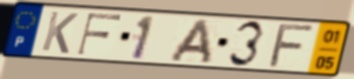1: (131, 14, 157, 61)
3: (226, 19, 271, 69)
A: (166, 17, 214, 65)
F: (266, 23, 319, 69), (75, 12, 125, 57)
K: (39, 10, 81, 56)
